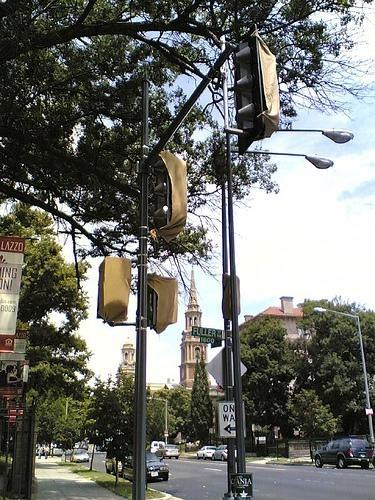car: (313, 438, 371, 470), (146, 452, 169, 483), (212, 444, 238, 462), (155, 444, 180, 460), (196, 446, 218, 460), (69, 449, 91, 463), (150, 440, 165, 454)
truck: (120, 452, 170, 482)
